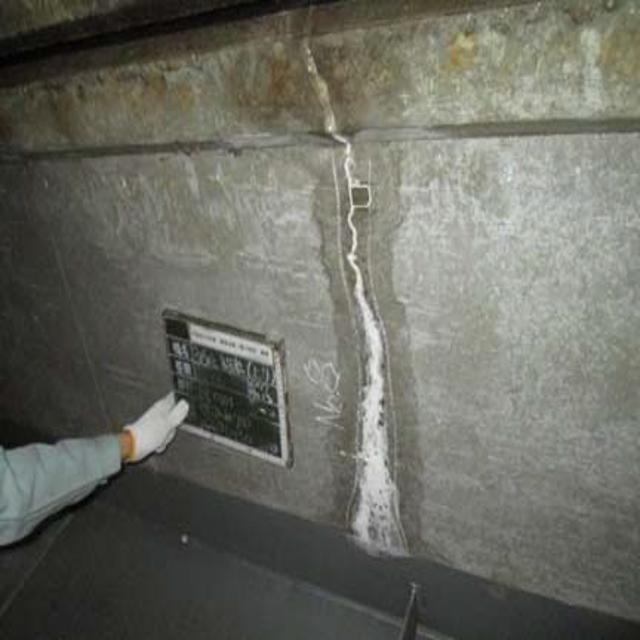freelime: (298, 43, 422, 574)
